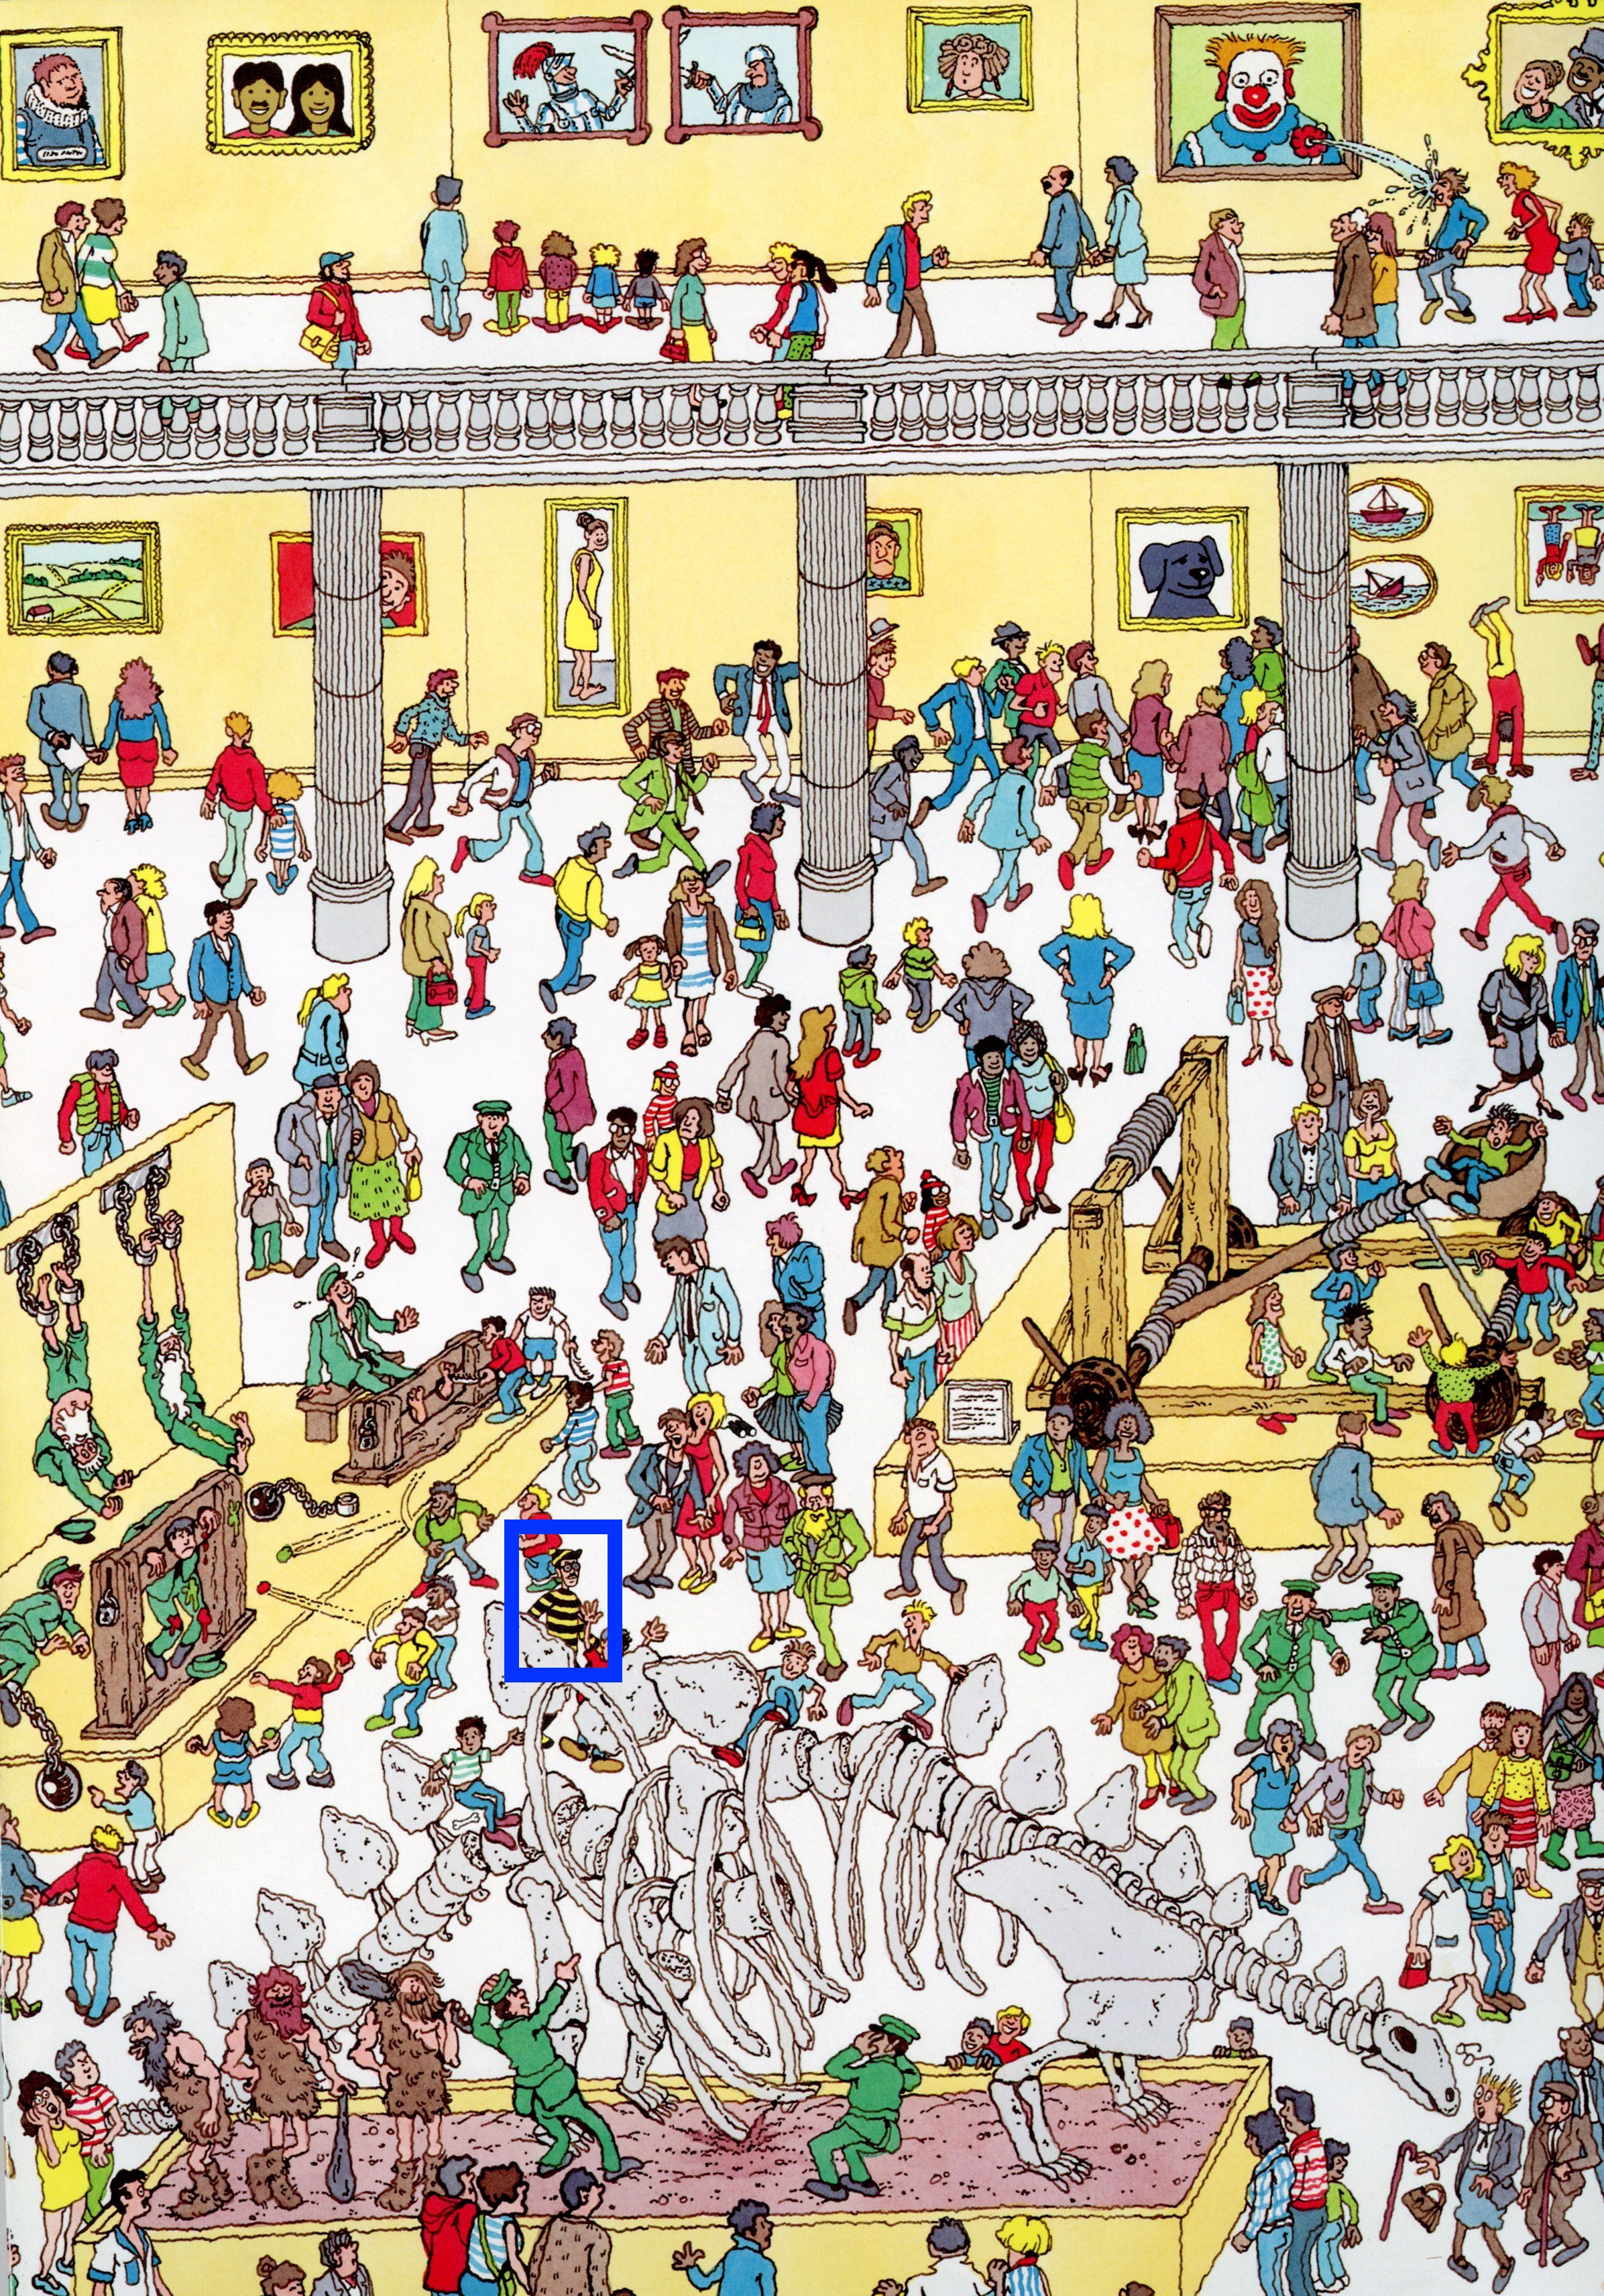odlaw: (522, 1525, 618, 1671)
